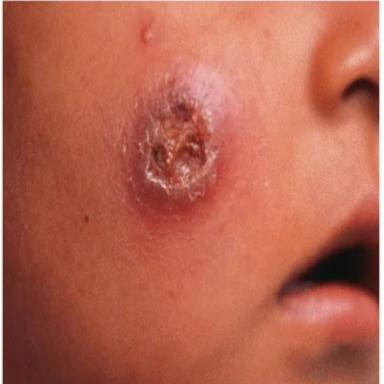Leishmanios: (122, 63, 232, 214)
